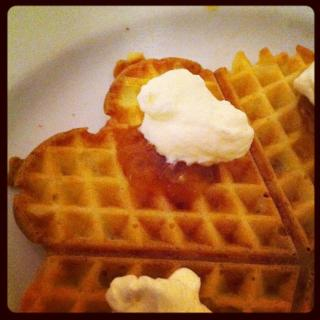Waffle: (8, 42, 315, 313)
